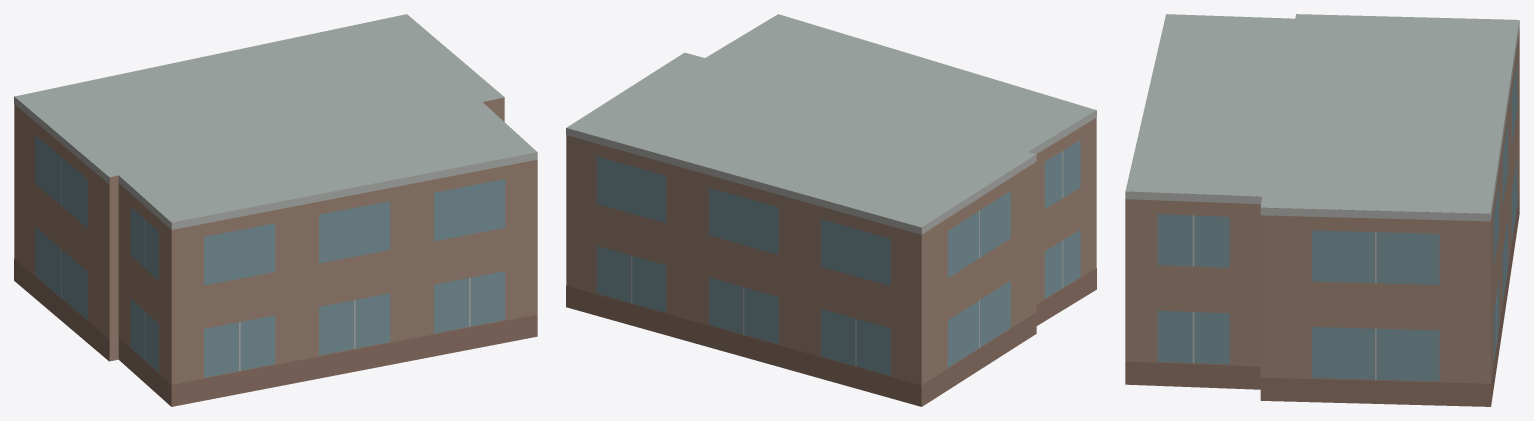
Rendered from survey-upis-32803897.glb.
3 views of the same model, side by side, from view 1: azimuth 30°, elevation 25°; view 2: azimuth 150°, elevation 25°; view 3: azimuth 270°, elevation 25° (orthographic). The views are drawn at different scales.
Parts seen in each view (by area): view 1: survey-upis-32803897.tmp; view 2: survey-upis-32803897.tmp; view 3: survey-upis-32803897.tmp.
Part boxes in pixels (x1=…): survey-upis-32803897.tmp: x1=14, y1=14, x2=537, y2=406; survey-upis-32803897.tmp: x1=566, y1=14, x2=1096, y2=406; survey-upis-32803897.tmp: x1=1125, y1=14, x2=1519, y2=406.
Bounding box in the file's own units: 13.54 × 6.1 × 11.3.
